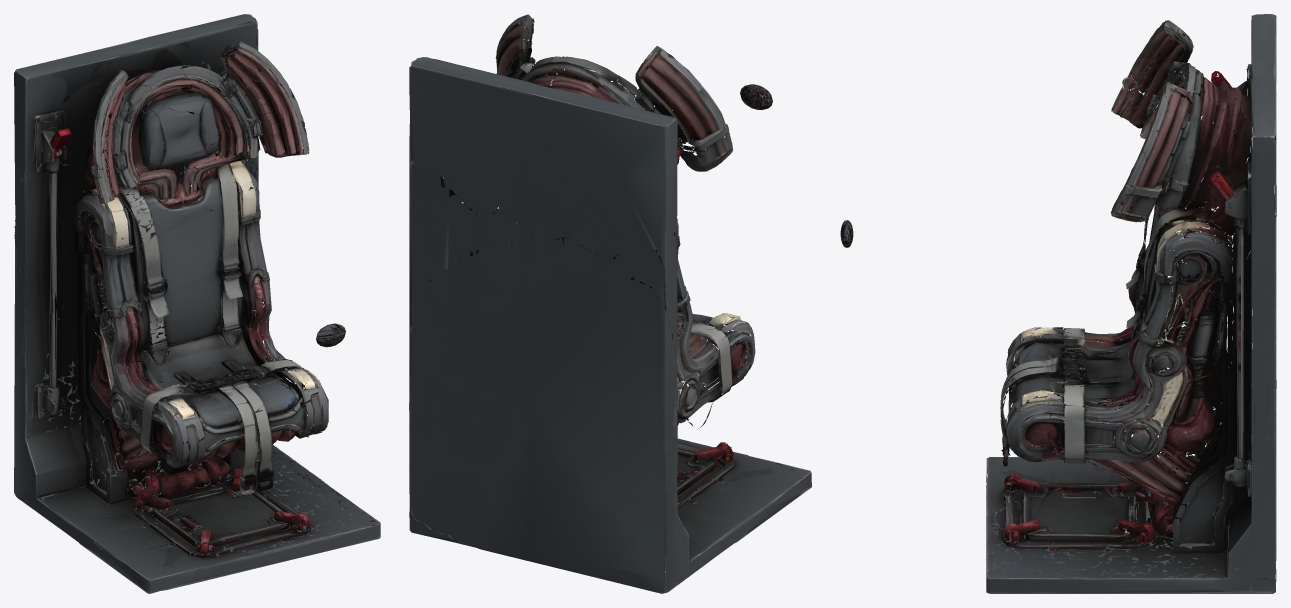
File: evac_turned_passenger_jettison_seat.glb
The picture shows the model from 3 angles, left to right: view 1: azimuth 30°, elevation 25°; view 2: azimuth 150°, elevation 25°; view 3: azimuth 270°, elevation 25°; orthographic projection. The views are drawn at different scales.
Parts seen in each view (by area): view 1: node_0, HB_PULSE_00; view 2: node_0, HB_PULSE_00; view 3: node_0.
Boxes of the visible parts, box(x1,y1,x2,y2) form: node_0: box(14, 14, 380, 593); HB_PULSE_00: box(316, 323, 345, 347); node_0: box(409, 14, 811, 593); HB_PULSE_00: box(740, 84, 772, 110); node_0: box(986, 14, 1276, 593).
Bounding box in the file's own units: 0.522 × 0.9563 × 0.7836.
1 material, 1 textured.
